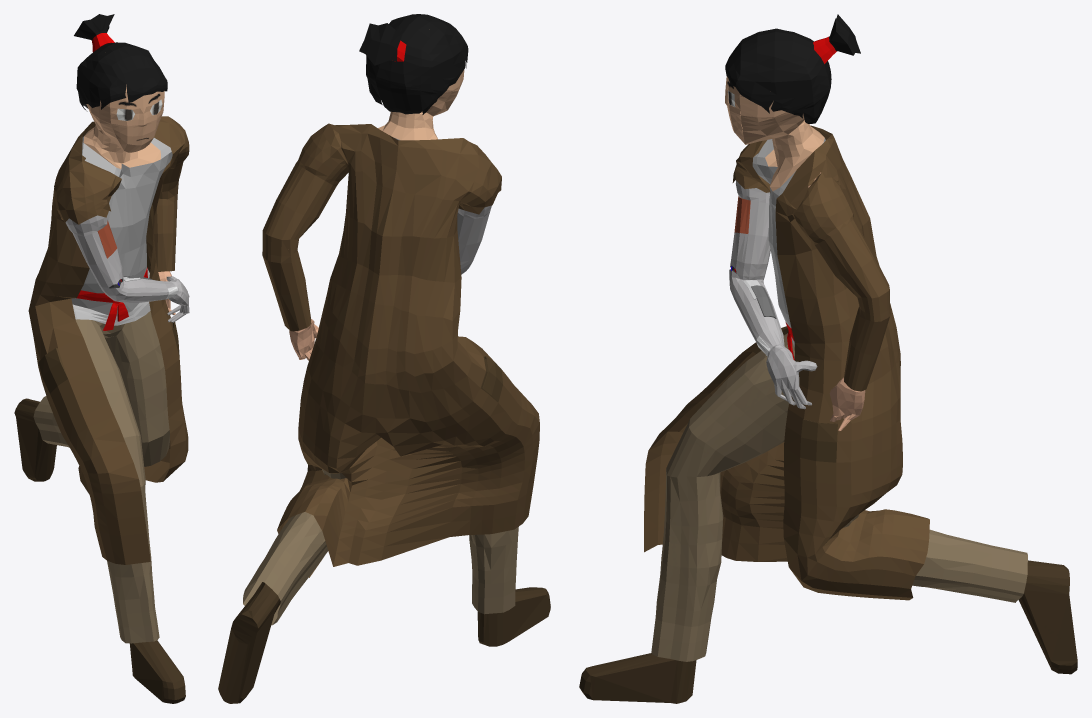
The model's file is One_RF_000004.obj.
3 renders of one model, left to right at view 1: azimuth 30°, elevation 25°; view 2: azimuth 150°, elevation 25°; view 3: azimuth 270°, elevation 25°, orthographic. The views are drawn at different scales.
Parts seen in each view (by area): view 1: Hair_Cube.004; view 2: Hair_Cube.004; view 3: Hair_Cube.004.
Boxes of the visible parts, left/top/right/bottom form: Hair_Cube.004: left=14, top=14, right=189, bottom=703; Hair_Cube.004: left=218, top=14, right=550, bottom=703; Hair_Cube.004: left=579, top=14, right=1077, bottom=703.
Size of the model in its own units: 1.09 by 3.68 by 2.4.
